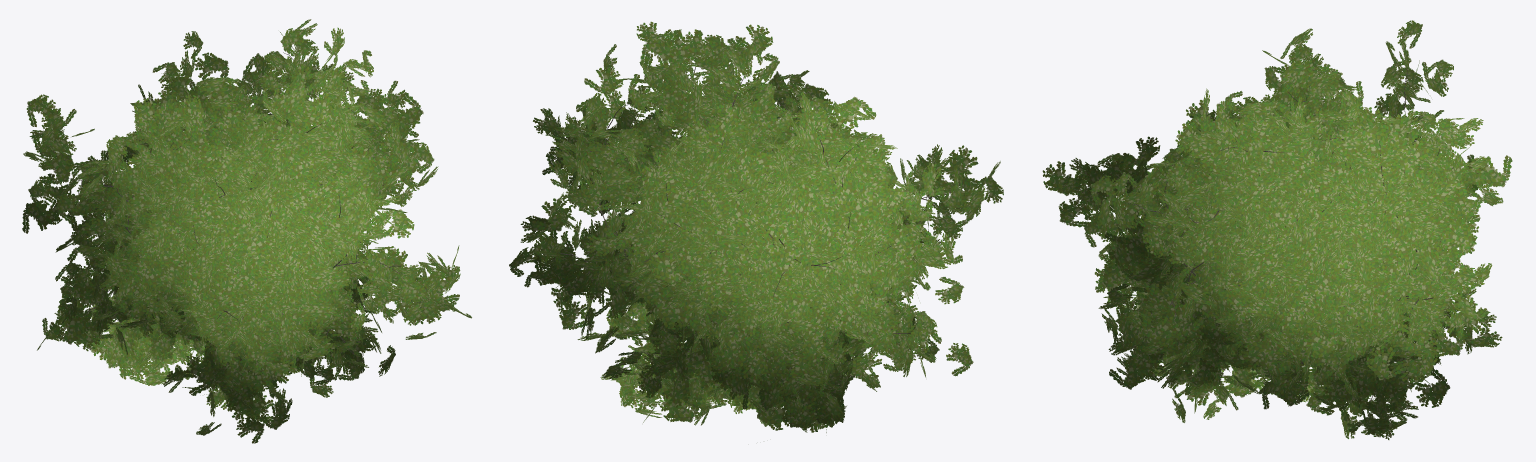
File: KO2_KermesOak_Medium_1.8m.glb
3 renders of one model, left to right at view 1: azimuth 30°, elevation 25°; view 2: azimuth 150°, elevation 25°; view 3: azimuth 270°, elevation 25°, orthographic. The views are drawn at different scales.
Parts seen in each view (by area): view 1: KO2_leaves, KO2_wood; view 2: KO2_leaves, KO2_wood; view 3: KO2_leaves, KO2_wood.
Boxes of the visible parts, box(x1,y1,x2,y2) form: KO2_leaves: box(22, 19, 471, 443); KO2_wood: box(53, 52, 428, 379); KO2_leaves: box(509, 21, 1003, 432); KO2_wood: box(560, 65, 963, 396); KO2_leaves: box(1042, 20, 1512, 439); KO2_wood: box(1087, 63, 1454, 411).
Bounding box in the file's own units: 2.32 × 1.94 × 2.28.
Materials: 2 (2 with a texture image).
